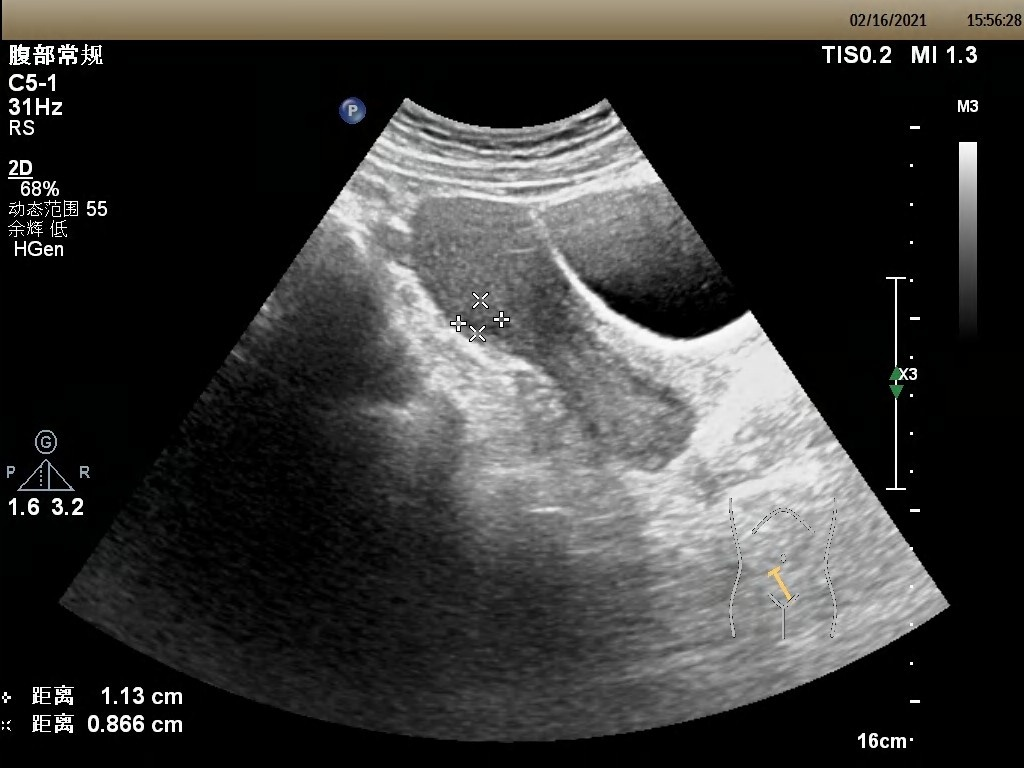肌瘤: (455, 300, 500, 335)
